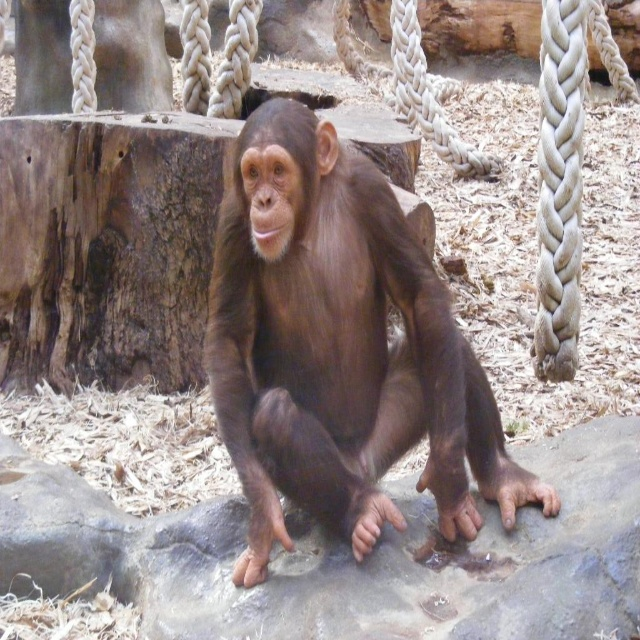Monkey: (206, 97, 562, 581)
